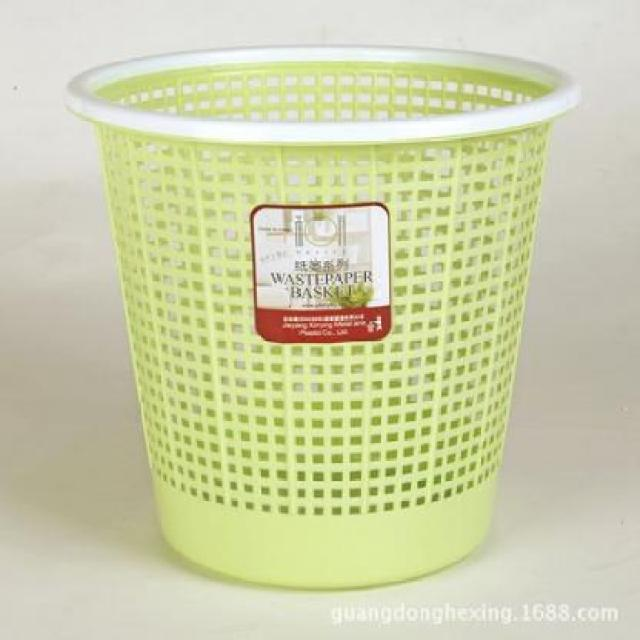dustbin: (60, 37, 587, 596)
